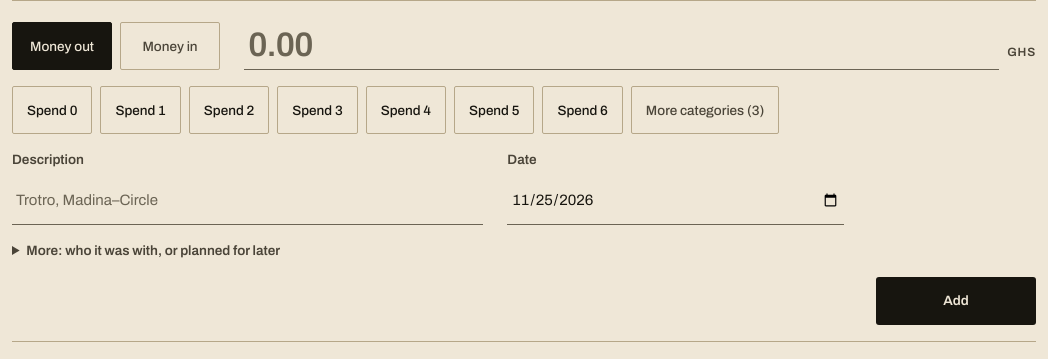
Test: EntryForm › shows a few categories at first and the rest on request
Expected: the button "Spend 0" is shown, [12,86,92,134]
Expected: the button "Spend 9" is not shown
Click the button "More categories (3)" at (705, 110), box [631,86,779,134]
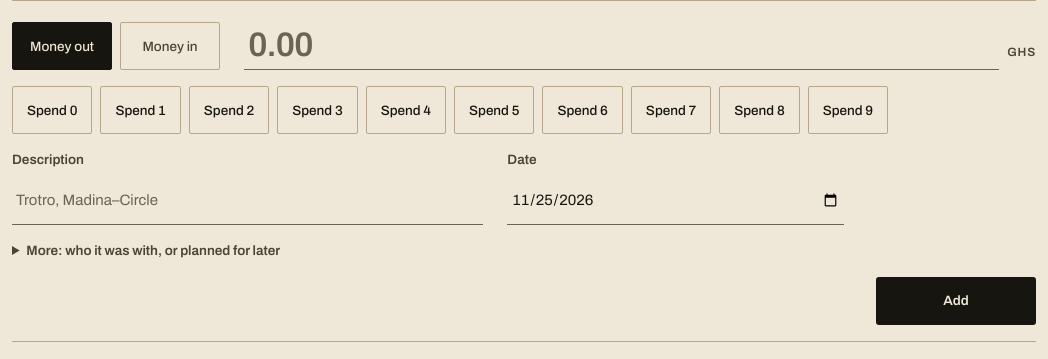
Expected: the button "Spend 9" is shown, [808,86,888,134]
